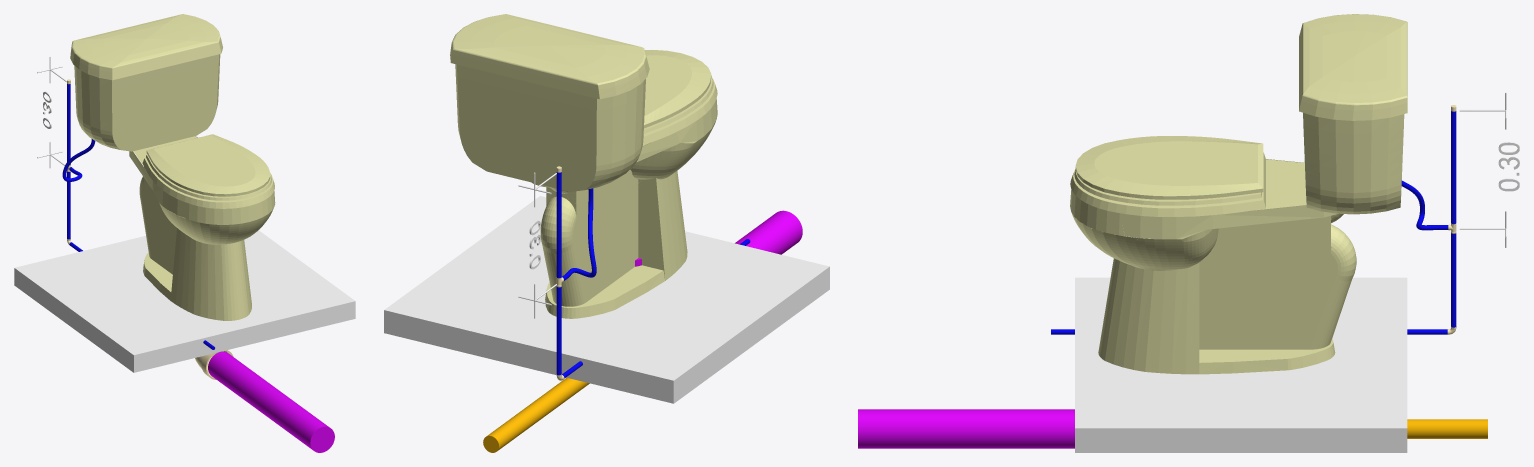
Rendered from inodoro.glb.
The picture shows the model from 3 angles, left to right: view 1: azimuth 30°, elevation 25°; view 2: azimuth 150°, elevation 25°; view 3: azimuth 270°, elevation 25°; orthographic projection. The views are drawn at different scales.
Parts seen in each view (by area): view 1: Geom3D (×4); view 2: Geom3D (×7); view 3: Geom3D (×5).
Boxes of the visible parts, <box> form: Geom3D (×4): <box>14,14,355,452</box>; Geom3D (×7): <box>384,14,829,452</box>; Geom3D (×5): <box>858,14,1487,452</box>.
Bounding box in the file's own units: 0.8602 × 1.05 × 1.6.
